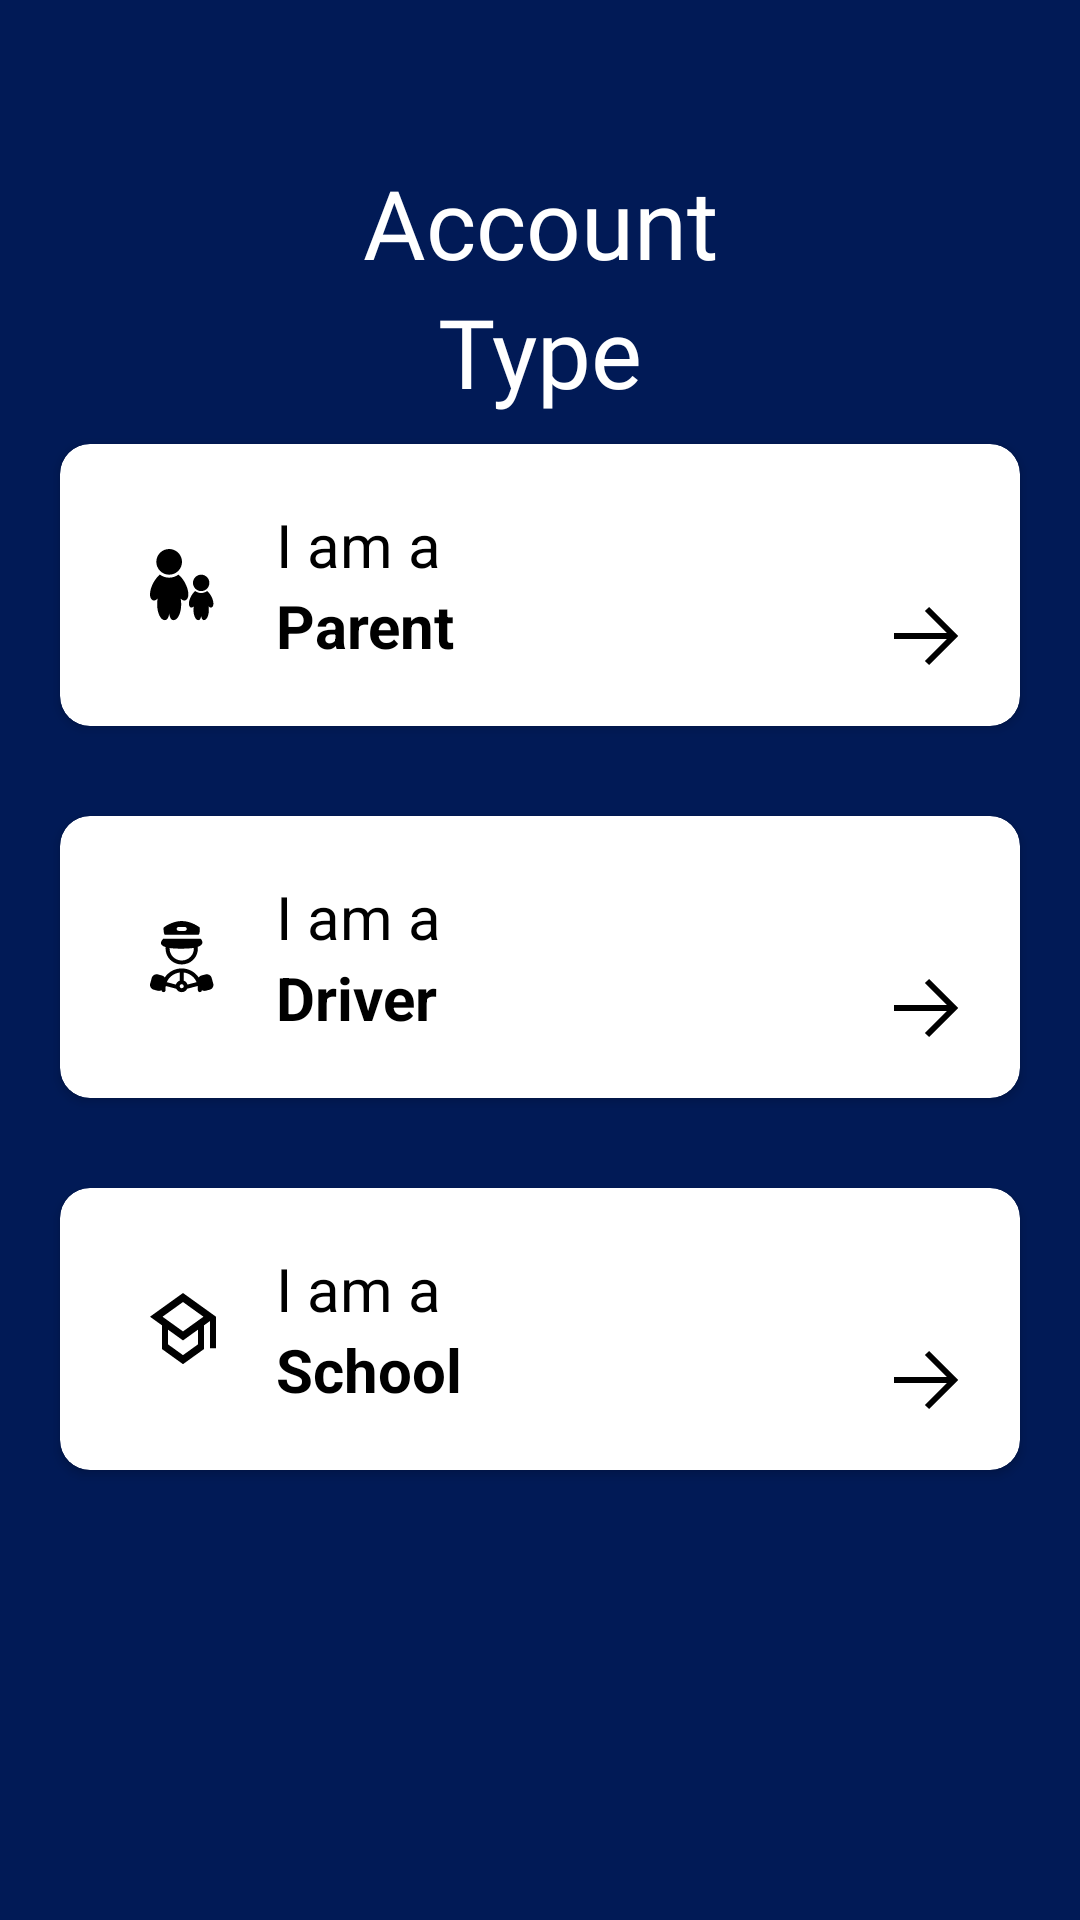

Icon click points for this 1080*1920 phone screenshot, format [x,y]:
next: [926,636], [926,1008], [926,1380]
